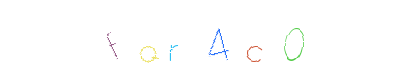0: (254, 0, 334, 80)
4: (169, 0, 249, 80)
C: (213, 0, 293, 80)
F: (128, 0, 208, 80)
Q: (147, 0, 227, 80)
R: (169, 0, 249, 80)
